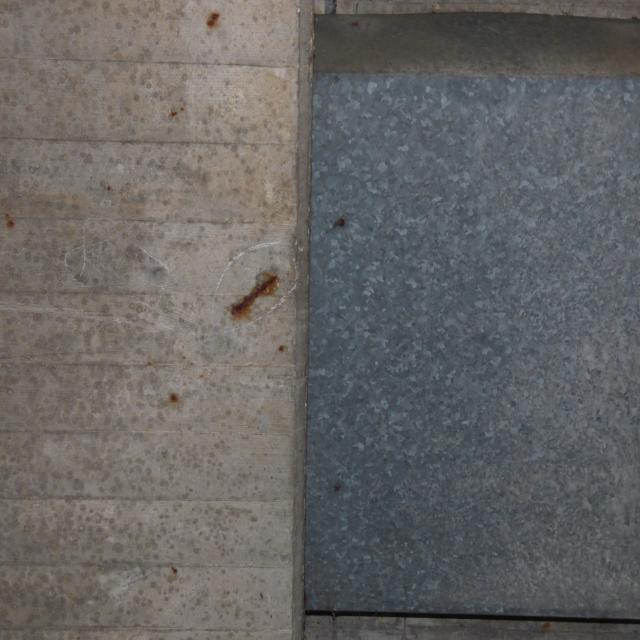corrosion: (220, 254, 300, 361), (144, 351, 208, 409), (200, 2, 226, 43), (0, 209, 20, 231), (168, 104, 189, 120), (169, 561, 181, 577), (106, 185, 112, 192)
